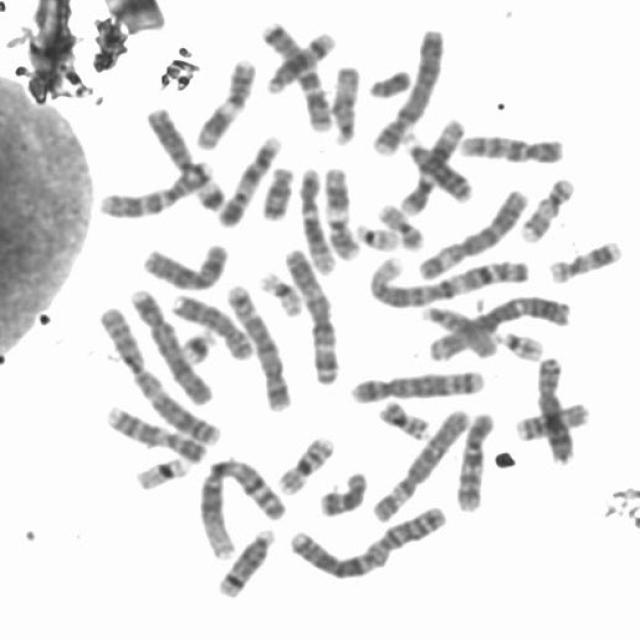A1: (196, 457, 288, 563), (369, 254, 529, 312)
A2: (98, 307, 224, 446), (291, 505, 447, 580)
A3: (426, 294, 573, 362), (282, 247, 341, 386)
B4: (128, 287, 216, 408), (371, 26, 445, 156)
B5: (225, 283, 292, 413), (352, 368, 486, 405)
C10: (454, 411, 497, 513), (459, 134, 566, 168)
C11: (193, 58, 256, 152), (323, 164, 359, 261)
C12: (398, 116, 466, 218), (300, 166, 338, 277)
C6: (370, 407, 470, 525), (416, 189, 530, 282)
C7: (261, 20, 333, 133), (96, 162, 212, 223)
C8: (170, 294, 254, 362), (536, 357, 576, 468)
C9: (215, 134, 282, 229), (104, 405, 210, 464)
D13: (399, 129, 475, 205), (146, 108, 208, 189)
D14: (262, 32, 337, 94), (216, 528, 275, 600)
D15: (421, 306, 497, 360), (329, 62, 362, 149)
E16: (277, 438, 333, 496), (516, 402, 590, 444)
E17: (520, 177, 576, 246), (548, 240, 623, 284)
E18: (318, 471, 369, 517), (258, 167, 294, 223)
F19: (258, 270, 304, 320), (133, 456, 191, 492)
F20: (378, 204, 424, 250), (377, 402, 430, 441)
G21: (179, 325, 219, 365), (193, 180, 231, 216)
G22: (494, 330, 546, 363), (354, 223, 399, 252)
X: (143, 240, 229, 292)
Y: (369, 70, 410, 100)
